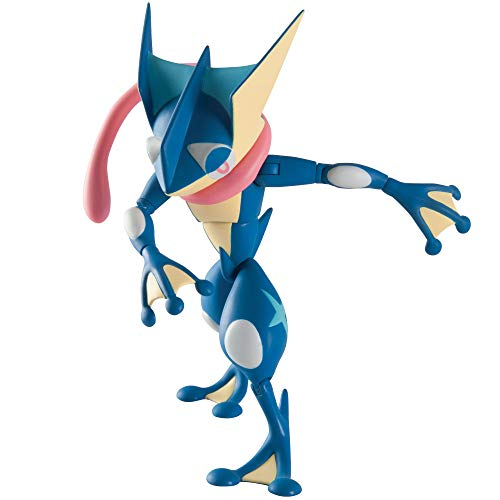greninja: (81, 1, 476, 496)
